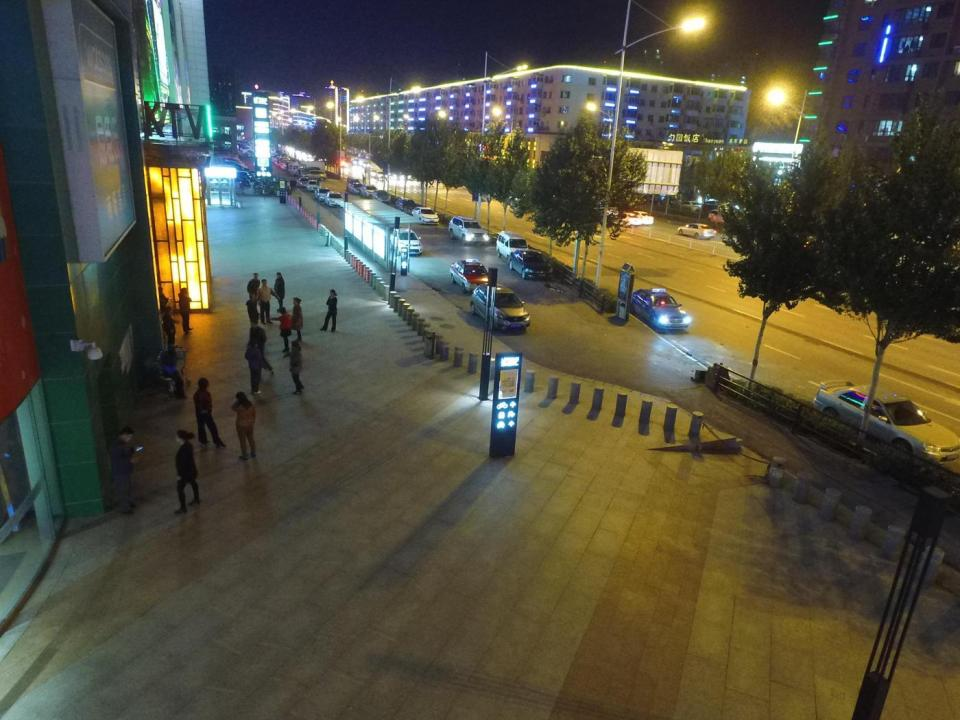car: (813, 380, 960, 465), (471, 283, 530, 331), (632, 289, 692, 330), (449, 259, 490, 294), (508, 250, 552, 279), (449, 216, 489, 244), (390, 228, 423, 255), (678, 223, 716, 239), (412, 206, 439, 225), (613, 213, 641, 227), (627, 211, 653, 226), (395, 198, 417, 215), (325, 191, 344, 207), (302, 170, 327, 181), (372, 190, 391, 204), (677, 201, 701, 211), (360, 184, 377, 198), (299, 167, 320, 177), (315, 188, 331, 201), (708, 209, 725, 221), (305, 181, 321, 192), (349, 182, 363, 194), (297, 177, 312, 188), (278, 161, 294, 169), (273, 157, 290, 164), (240, 146, 254, 154), (405, 170, 416, 180), (376, 171, 388, 180), (392, 171, 403, 180), (248, 151, 259, 158), (352, 158, 360, 166), (362, 161, 370, 167), (357, 153, 365, 158), (271, 148, 276, 154), (365, 154, 371, 159)
truck: (289, 161, 325, 176)
van: (496, 230, 528, 262), (703, 201, 729, 210), (346, 177, 360, 191), (238, 143, 249, 149)
